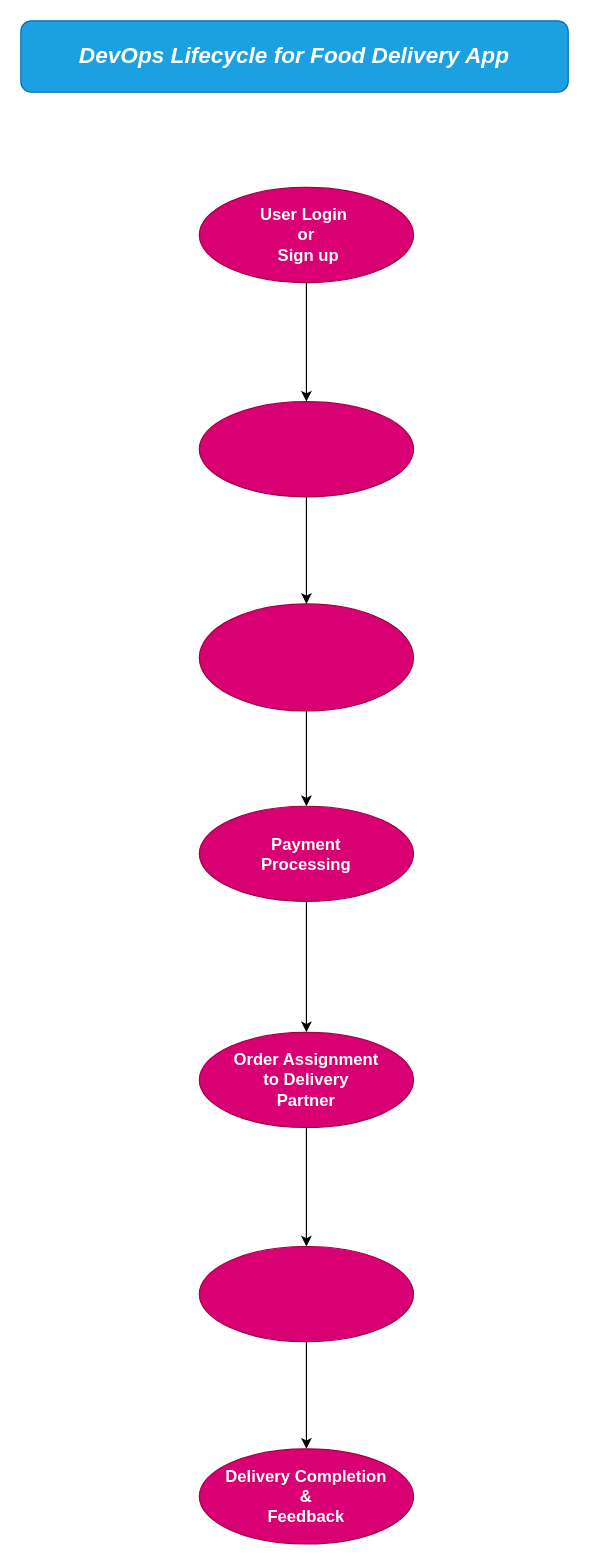
The diagram is 589 pixels wide and 1565 high, and some of its shapes have lost their labels. The shapes that lost their labels are listed below. From the top down, each one's box as (x1, y1, x2, y2) in pixels, then its label:
(198, 400, 414, 497): Restaurant Browsing & Food Selection
(198, 603, 414, 711): Add to card & Order Placement
(198, 1245, 414, 1342): Live Order Tracking
